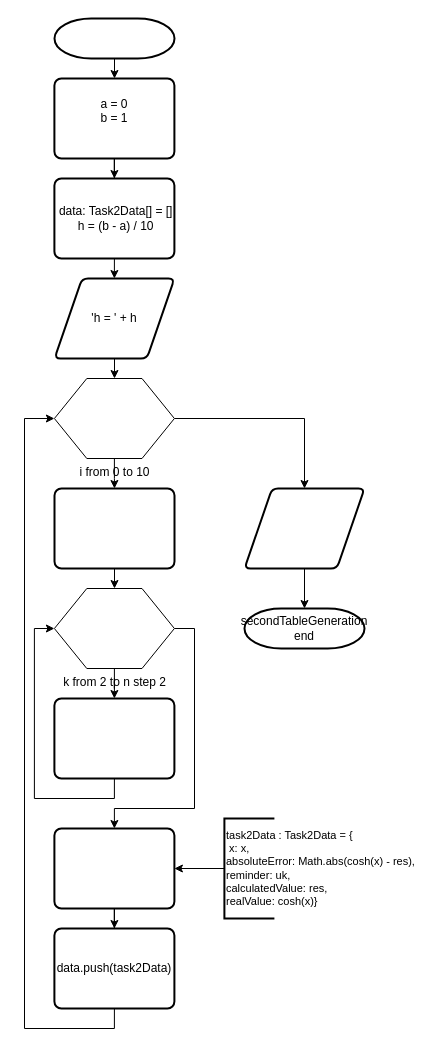
Image size: 433x1054. Some labels were removed from this diagram. The centre of each missing label's shape, as x and y in pixels:
data: (304,528)
res += uk uk *= x**2 / ((k + 1) * (k + 2)): (114,738)
second TableGeneration start: (114,38)
x = a + h * i res = 1 uk: = x**2 / 2: (114,528)
